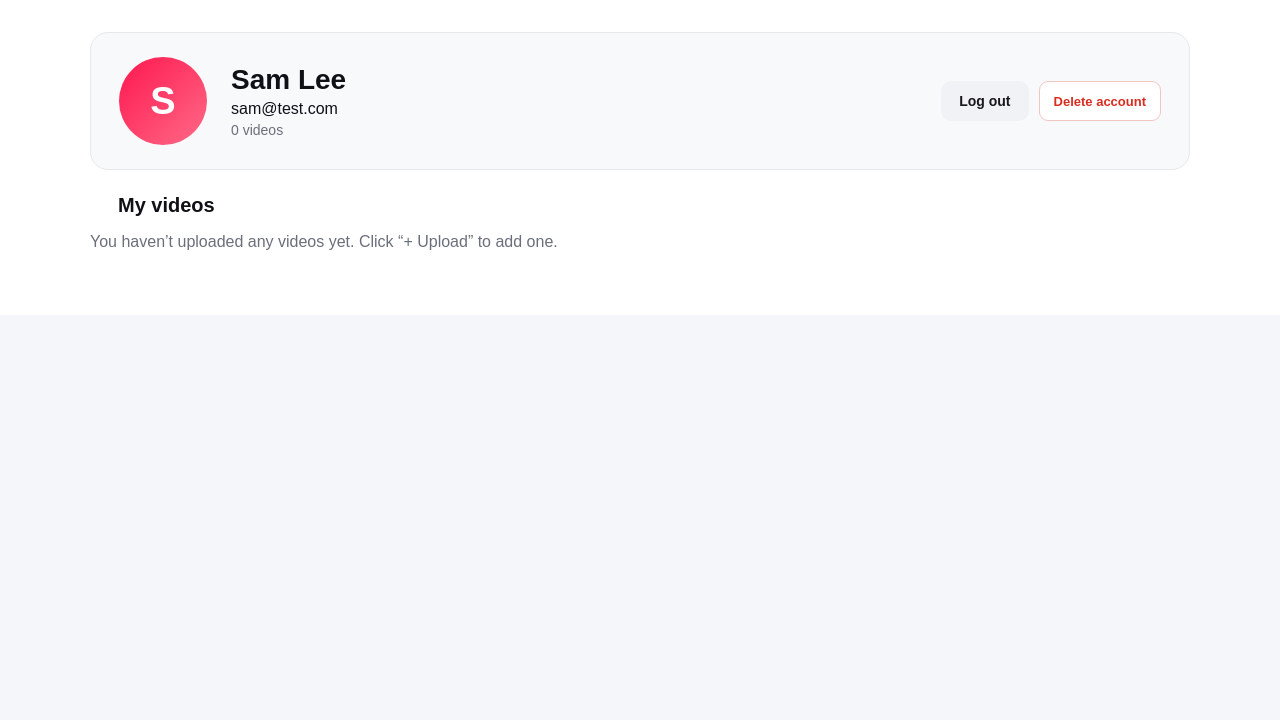
Test: ProfilePage delete account › opens the confirmation dialog from the Delete account button
Click the button "Delete account" at (1100, 101), box [1038, 81, 1161, 121]
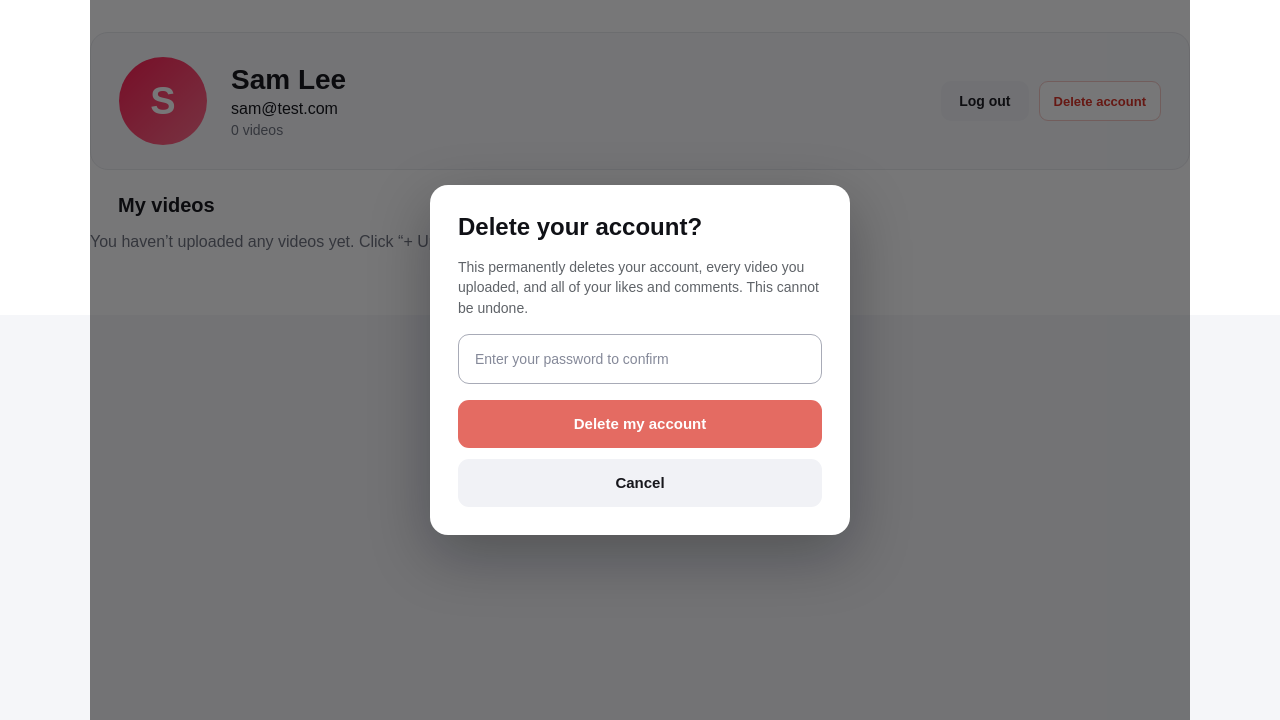
Result: the dialog named "Delete account" is shown at [430, 185, 850, 535]
